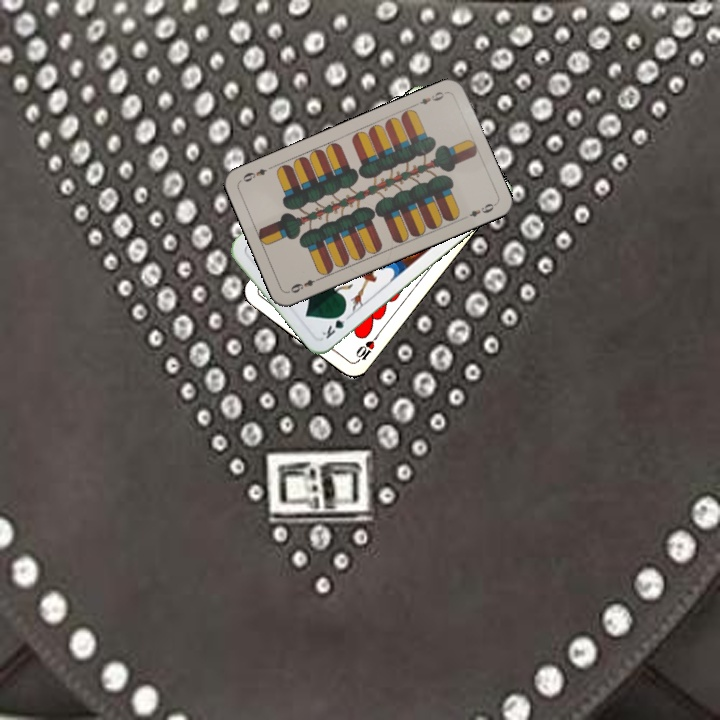E9: (285, 273, 324, 296), (411, 87, 450, 109)
GK: (318, 307, 353, 342)
H10: (350, 331, 380, 366)
